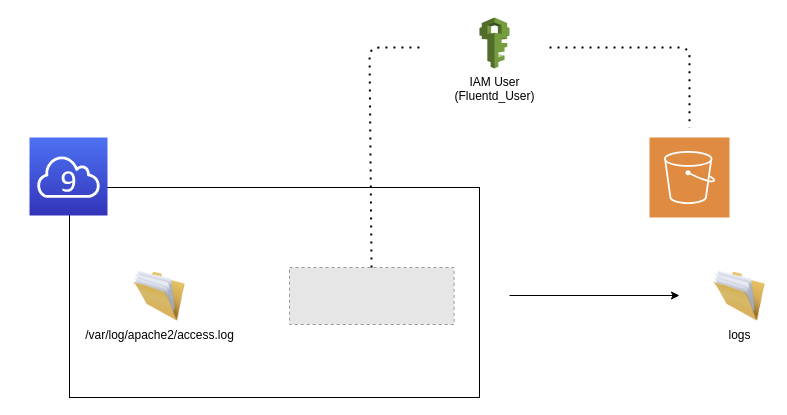
Some shapes in this 787 by 415 pixel diagram are drawn without their labels. Grey dashed boxes stand in for pictures. Here are the shapes that lost their labels. From the top down, the centre of each, then its label:
At (68,176): "Cloud9 Enviorment (fluentd-cloud9)".
At (689,177): "S3 Bucket (fluentd-s3bucket-xxxxx)".
